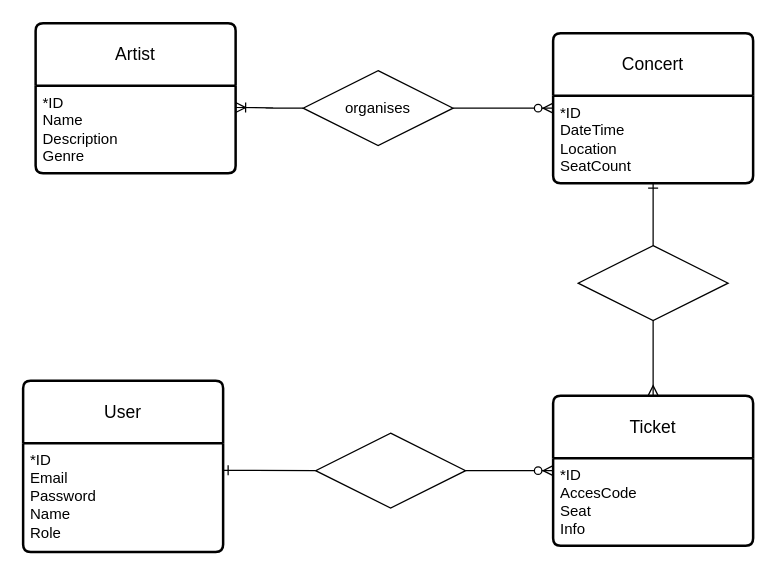
The diagram is 775 pixels wide and 574 high, and some of its shapes have lost their labels. The shapes that lost their labels are listed below. From the top down, each one's centre as x and y in pixels, then its label:
At point (652, 282): "grants acces to".
At point (390, 470): "buys".
